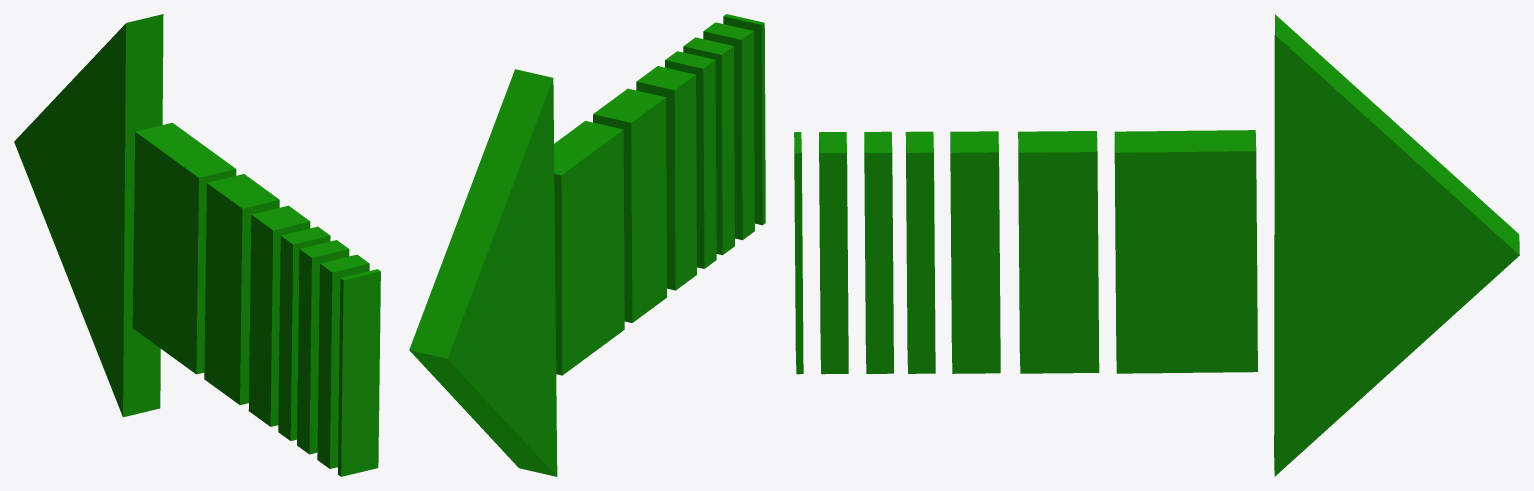
The model's file is navi_arrow.gltf.
3 views of the same model, side by side, from view 1: azimuth 30°, elevation 25°; view 2: azimuth 150°, elevation 25°; view 3: azimuth 270°, elevation 25° (orthographic). The views are drawn at different scales.
Parts seen in each view (by area): view 1: Box1, Box, Box2, Box7, Box3, Box6, Box5, Box4; view 2: Box1, Box, Box2, Box3, Box6, Box4, Box5, Box7; view 3: Box1, Box, Box2, Box3, Box4, Box5, Box6, Box7.
Boxes of the visible parts, box(x1,y1,x2,y2) form: Box1: box(14, 14, 163, 417); Box: box(132, 122, 236, 374); Box2: box(204, 174, 279, 404); Box7: box(338, 269, 380, 476); Box3: box(248, 205, 310, 426); Box6: box(317, 254, 369, 468); Box5: box(297, 240, 349, 454); Box4: box(278, 226, 330, 440); Box1: box(409, 69, 557, 476); Box: box(554, 121, 624, 375); Box2: box(593, 88, 666, 322); Box3: box(636, 66, 696, 290); Box6: box(703, 22, 754, 240); Box4: box(665, 51, 716, 268); Box5: box(683, 37, 734, 255); Box7: box(723, 14, 765, 225); Box1: box(1274, 14, 1519, 476); Box: box(1114, 130, 1257, 373); Box2: box(1018, 131, 1099, 373); Box3: box(950, 131, 1000, 373); Box4: box(905, 131, 935, 373); Box5: box(864, 131, 893, 373); Box6: box(819, 132, 848, 374); Box7: box(794, 132, 803, 374).
Bounding box in the file's own units: 0.1217 × 1 × 1.48.
